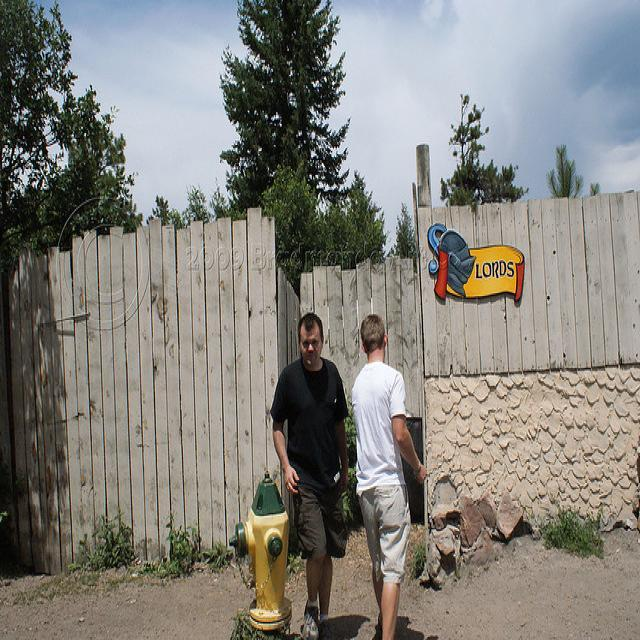fire_hydrant: (229, 468, 292, 634)
